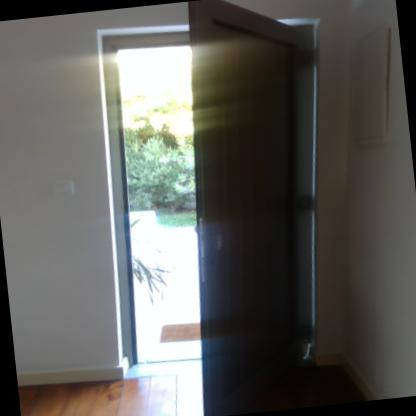semi: (87, 0, 353, 389)
